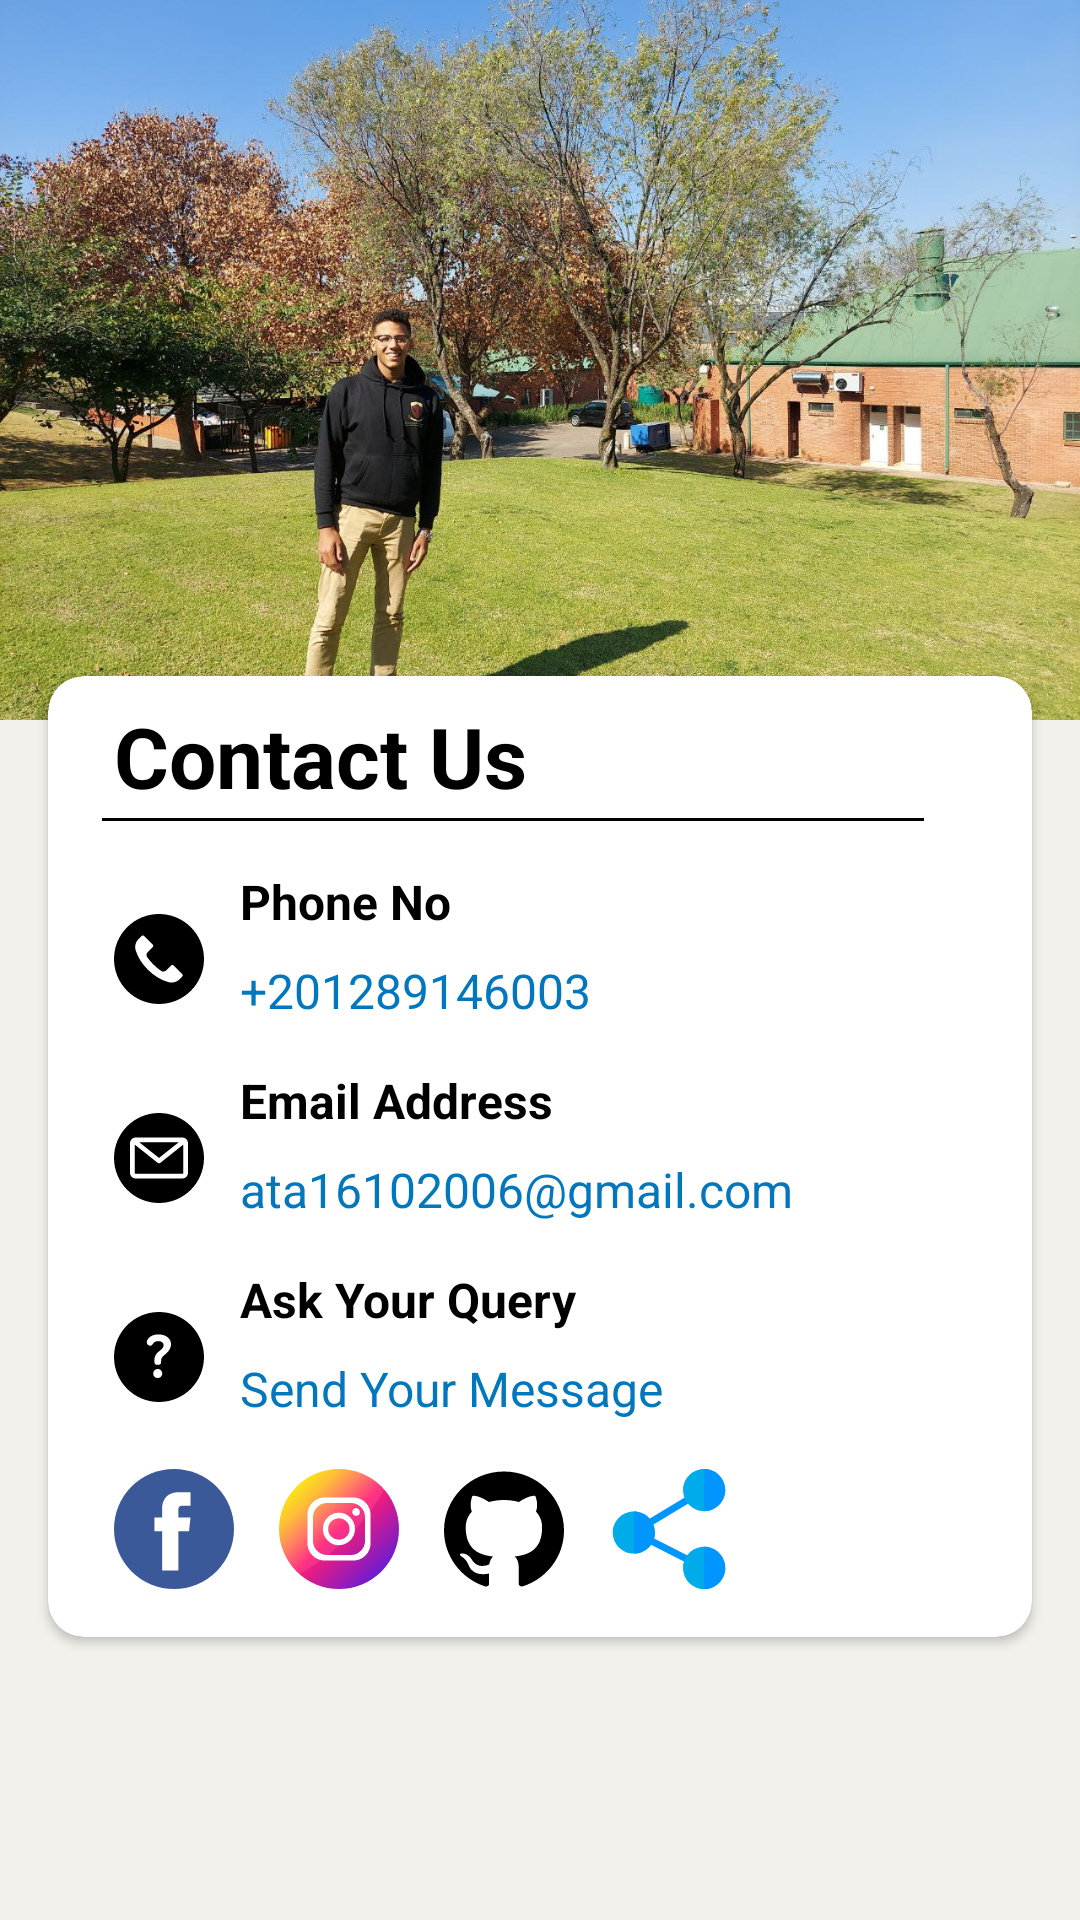

Icon bounding boxes for this 1080 x 1920 phone screenshot, format {"left": x1, "top": y1, "right": x2, "bottom": y2}:
call: {"left": 114, "top": 914, "right": 204, "bottom": 1004}
question: {"left": 114, "top": 1312, "right": 204, "bottom": 1402}
share: {"left": 612, "top": 1469, "right": 726, "bottom": 1589}
